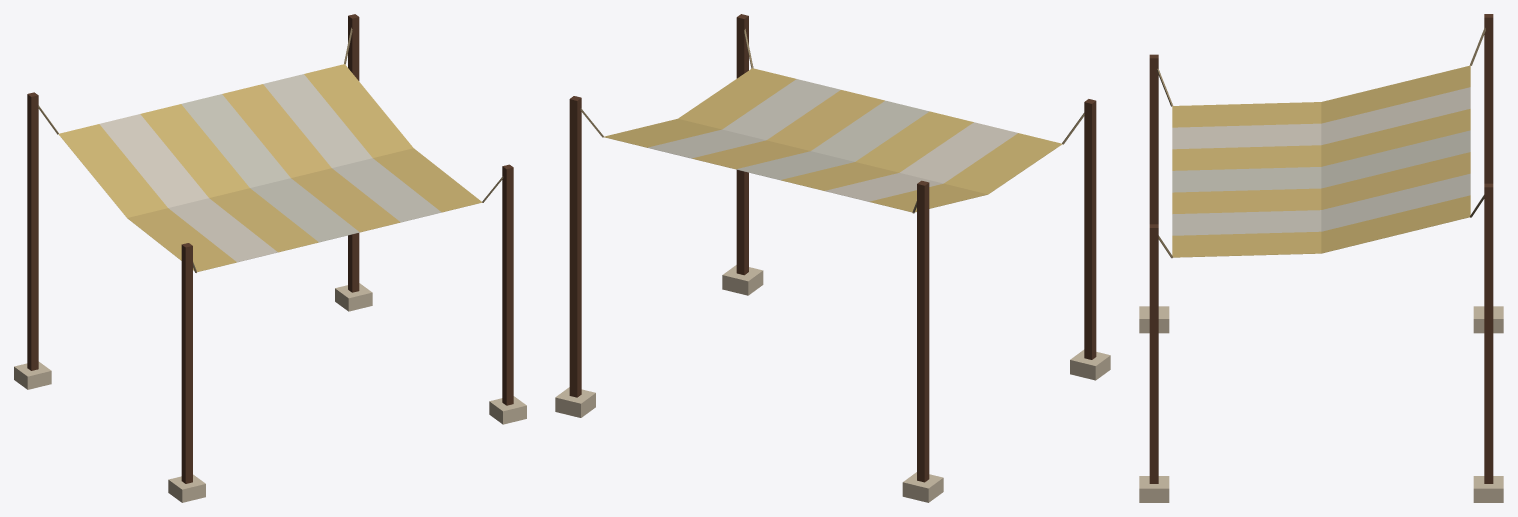
File: toldo_vela.glb
The picture shows the model from 3 angles, left to right: view 1: azimuth 30°, elevation 25°; view 2: azimuth 150°, elevation 25°; view 3: azimuth 270°, elevation 25°; orthographic projection. The views are drawn at different scales.
Visible parts, largest first — view 1: toldo_vela_fijo; view 2: toldo_vela_fijo; view 3: toldo_vela_fijo.
Part boxes in pixels (box(x1,y1,x2,y2)): toldo_vela_fijo: box(14, 14, 526, 502); toldo_vela_fijo: box(555, 14, 1110, 502); toldo_vela_fijo: box(1139, 14, 1503, 502).
Bounding box in the file's own units: 4.33 × 3.45 × 3.66.
